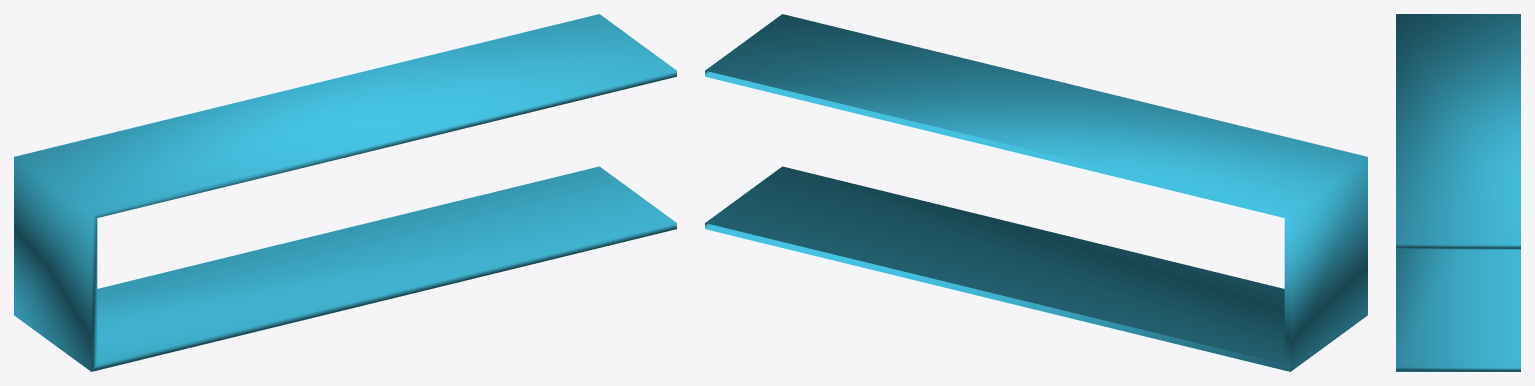
File: glass1.fbx
3 views of the same model, side by side, from view 1: azimuth 30°, elevation 25°; view 2: azimuth 150°, elevation 25°; view 3: azimuth 270°, elevation 25° (orthographic). The views are drawn at different scales.
Visible parts, largest first — view 1: Plane_307; view 2: Plane_307; view 3: Plane_307.
Boxes of the visible parts, <box> form: Plane_307: <box>14,14,676,371</box>; Plane_307: <box>705,14,1367,371</box>; Plane_307: <box>1396,14,1520,371</box>.
Bounding box in the file's own units: 20.1 × 5.2 × 4.6.
1 material, 1 textured.
